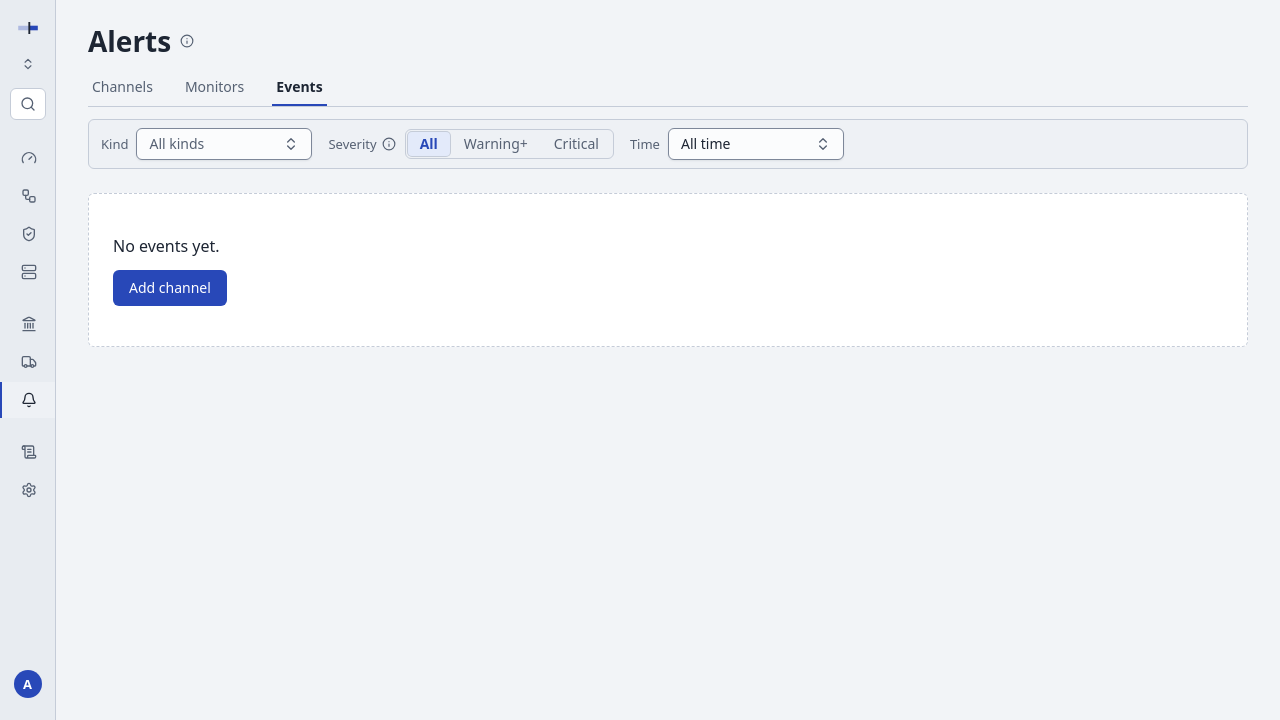
Test: empty and filtered empty states
The image size is (1280, 720).
Expected: the text "No events yet." is shown, [113,234,220,258]
Click the radio button labelled "Critical" at (576, 144), box [542,132,611,156]
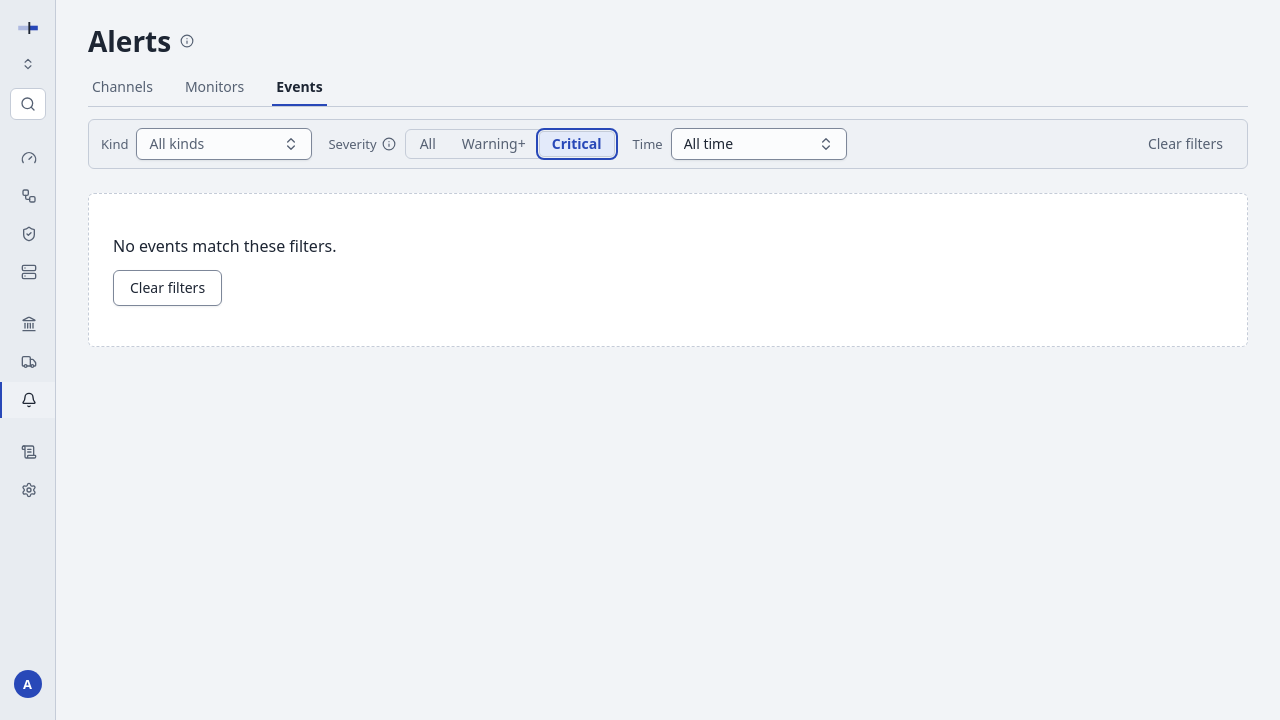
Expected: the text "No events match these filters." is shown, [113,234,336,258]
Click the button "Clear filters" in the row of "Severity" at (1185, 144), box [1136,128,1235,160]
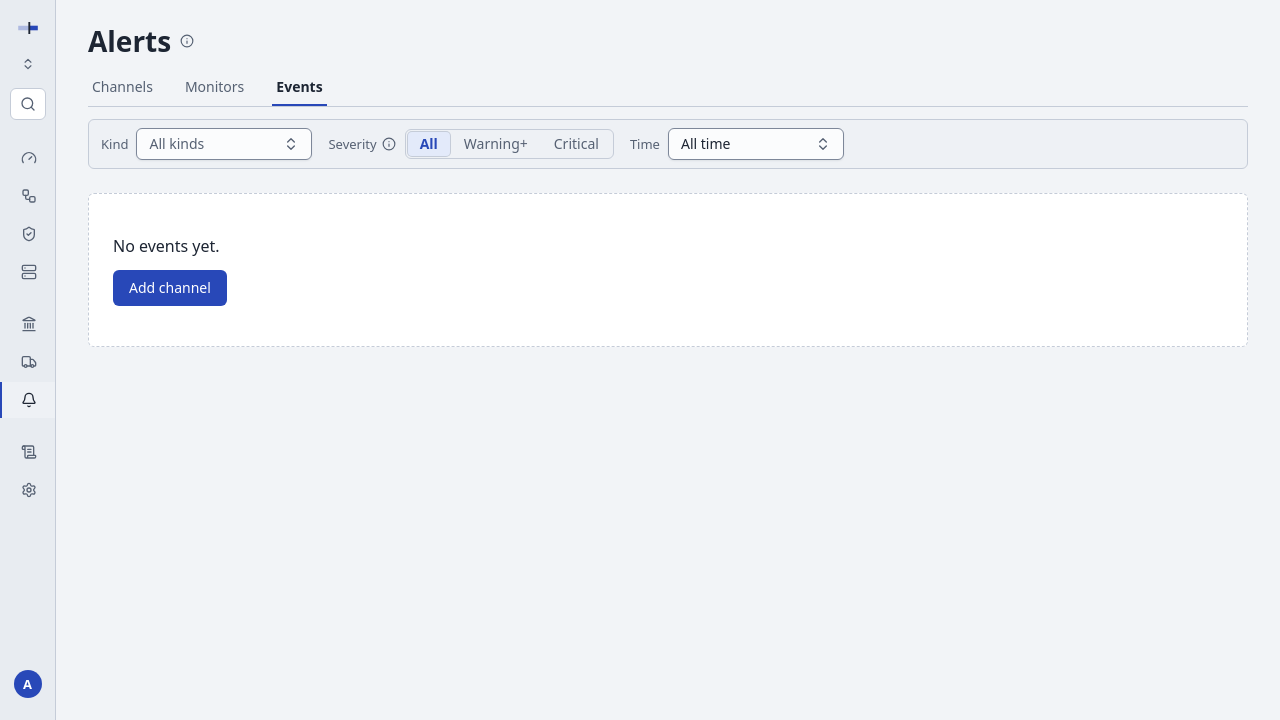
Expected: the text "No events yet." is shown, [113,234,220,258]
